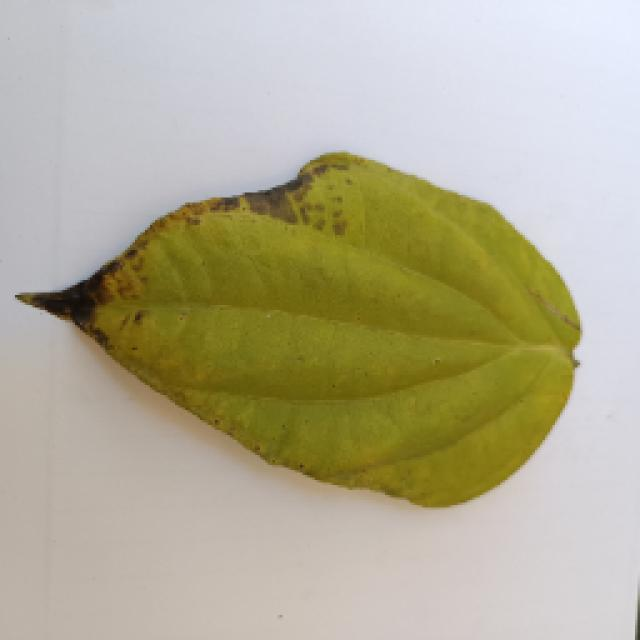slow-decline: (15, 150, 577, 502)
